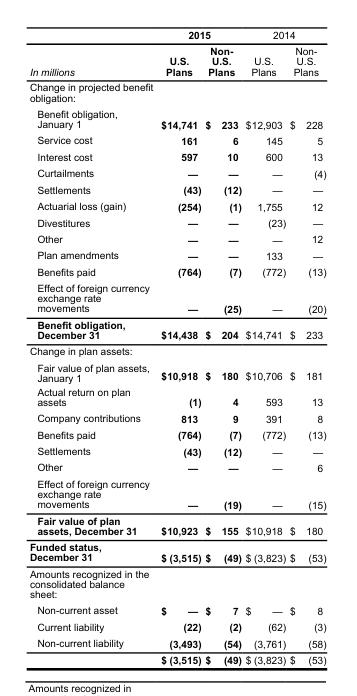table: (28, 28, 325, 665)
table column: (28, 28, 154, 665), (154, 28, 202, 665), (242, 28, 287, 665), (202, 28, 242, 665), (287, 28, 325, 665)
table column header: (28, 28, 325, 79)
table projected row header: (28, 565, 325, 601), (28, 79, 325, 105), (28, 342, 325, 359)
table row: (28, 42, 325, 79), (28, 279, 325, 316), (28, 475, 325, 512), (28, 565, 325, 601), (28, 105, 325, 132), (28, 538, 325, 565), (28, 79, 325, 105), (28, 316, 325, 342), (28, 512, 325, 538), (28, 359, 325, 384), (28, 384, 325, 409), (28, 164, 325, 181), (28, 197, 325, 214), (28, 246, 325, 263), (28, 342, 325, 359), (28, 409, 325, 426), (28, 442, 325, 459), (28, 601, 325, 618), (28, 634, 325, 651), (28, 132, 325, 148), (28, 148, 325, 164), (28, 181, 325, 197), (28, 214, 325, 230), (28, 230, 325, 246), (28, 263, 325, 279), (28, 426, 325, 442), (28, 459, 325, 475), (28, 618, 325, 634), (28, 28, 325, 42), (28, 651, 325, 665)
table spanning cell: (28, 28, 154, 79), (154, 28, 242, 42), (242, 28, 325, 42)
